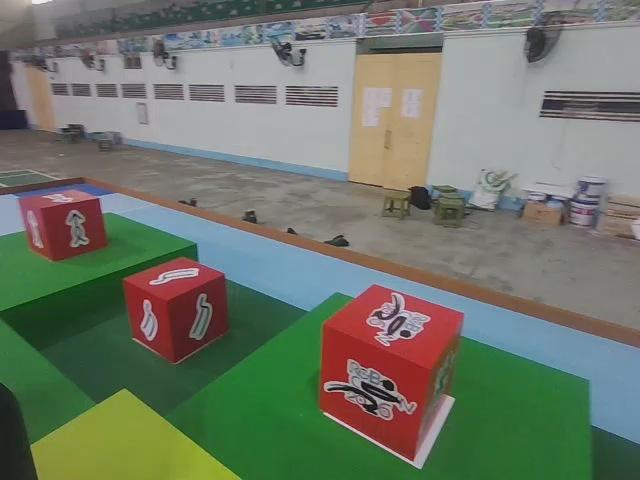R1: (316, 280, 467, 465)
R2 Real: (120, 254, 231, 366), (16, 188, 109, 263)
